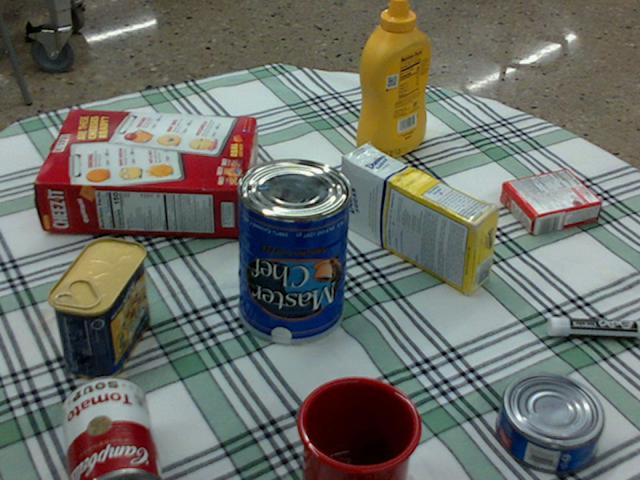cracker_box: (35, 110, 254, 234)
gelatin_box: (499, 169, 600, 235)
large_marker: (547, 316, 639, 338)
master_chef_can: (236, 157, 351, 343)
mug: (292, 376, 418, 479)
mustard_bottle: (355, 0, 429, 158)
potted_meat_can: (48, 237, 148, 379)
sugar_box: (339, 145, 498, 294)
tomato_soup_can: (61, 376, 159, 479)
tuna_fish_can: (496, 373, 604, 473)
